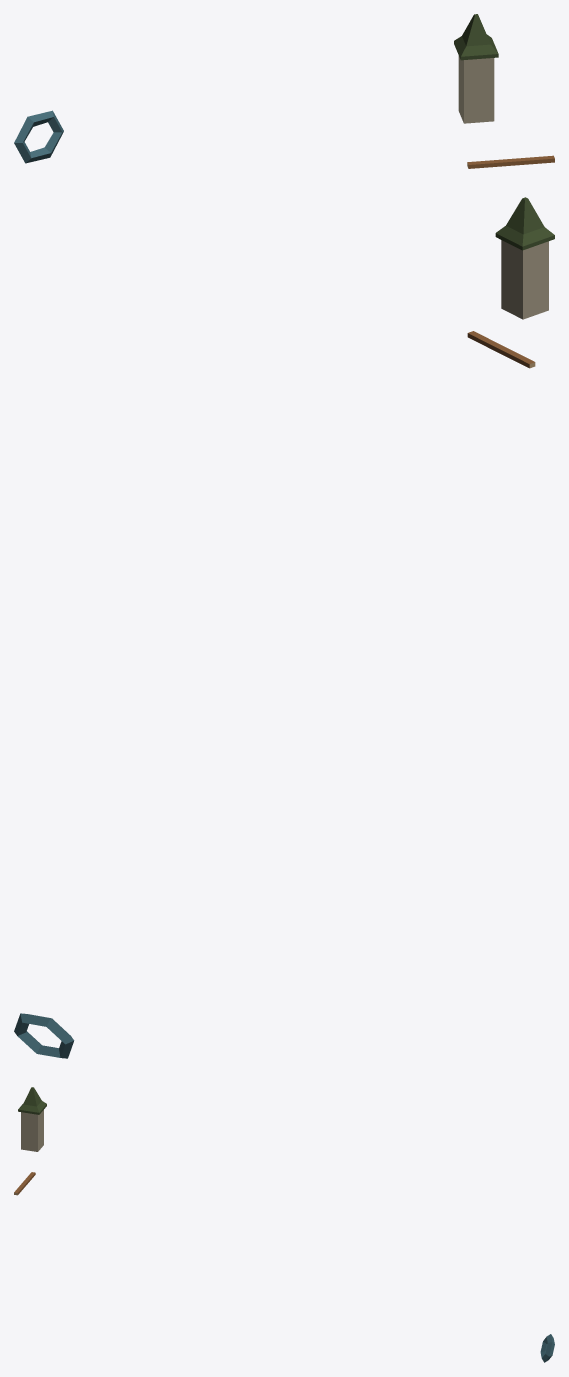
3 views of the same model, one above another, from view 1: azimuth 30°, elevation 25°; view 2: azimuth 150°, elevation 25°; view 3: azimuth 270°, elevation 25° (orthographic). The views are drawn at different scales.
Parts seen in each view (by area): view 1: Box1016_wall3_0, Torus048_metal_0, Box1017_roof1_0, Box15855_brown_0; view 2: Box1016_wall3_0, Box1017_roof1_0, Torus048_metal_0; view 3: Box1016_wall3_0, Box1017_roof1_0.
Part boxes in pixels (x1,y1,x2,y2): Box1016_wall3_0: (458,56,494,123); Torus048_metal_0: (14,110,63,163); Box1017_roof1_0: (454,14,498,60); Box15855_brown_0: (467,155,554,168); Box1016_wall3_0: (501,240,548,319); Box1017_roof1_0: (495,197,554,250); Torus048_metal_0: (14,1013,74,1058); Box1016_wall3_0: (21,1110,43,1151); Box1017_roof1_0: (18,1087,46,1114).
Size of the model in its own units: 660 by 3222 by 5795.
